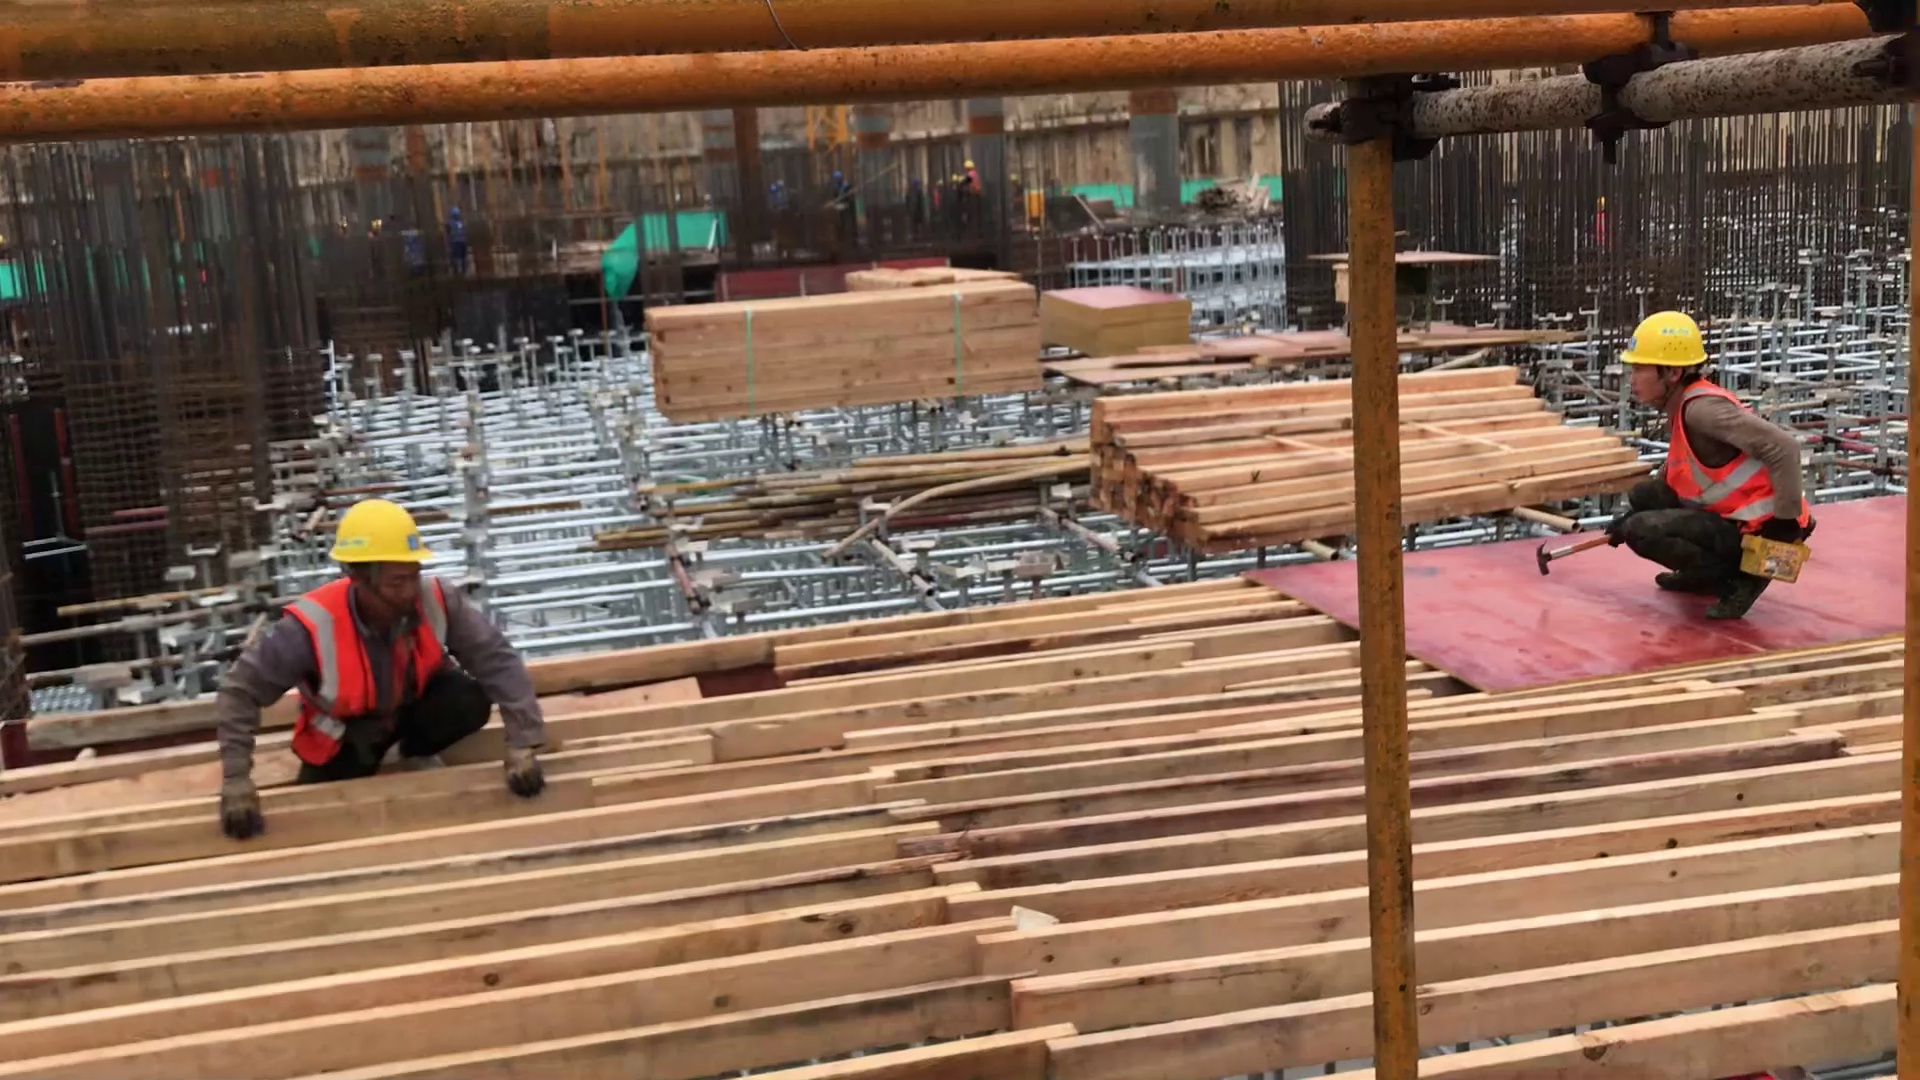board: (1044, 264, 1217, 356)
cutter: (1393, 218, 1507, 350)
helmet: (327, 499, 438, 566), (1614, 306, 1712, 372)
person: (212, 498, 559, 846), (1533, 309, 1806, 631)
rebar: (591, 444, 1092, 560)
vest: (278, 579, 462, 761), (1662, 387, 1808, 561)
wood: (7, 767, 1804, 1056), (1090, 373, 1627, 541), (638, 278, 1070, 422)
